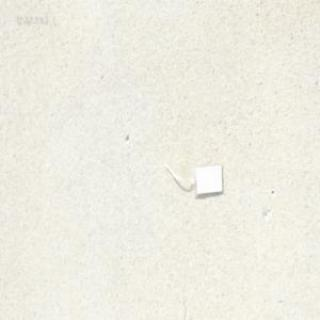LuggageTagtrack_idkeyframe: (163, 162, 223, 197)
